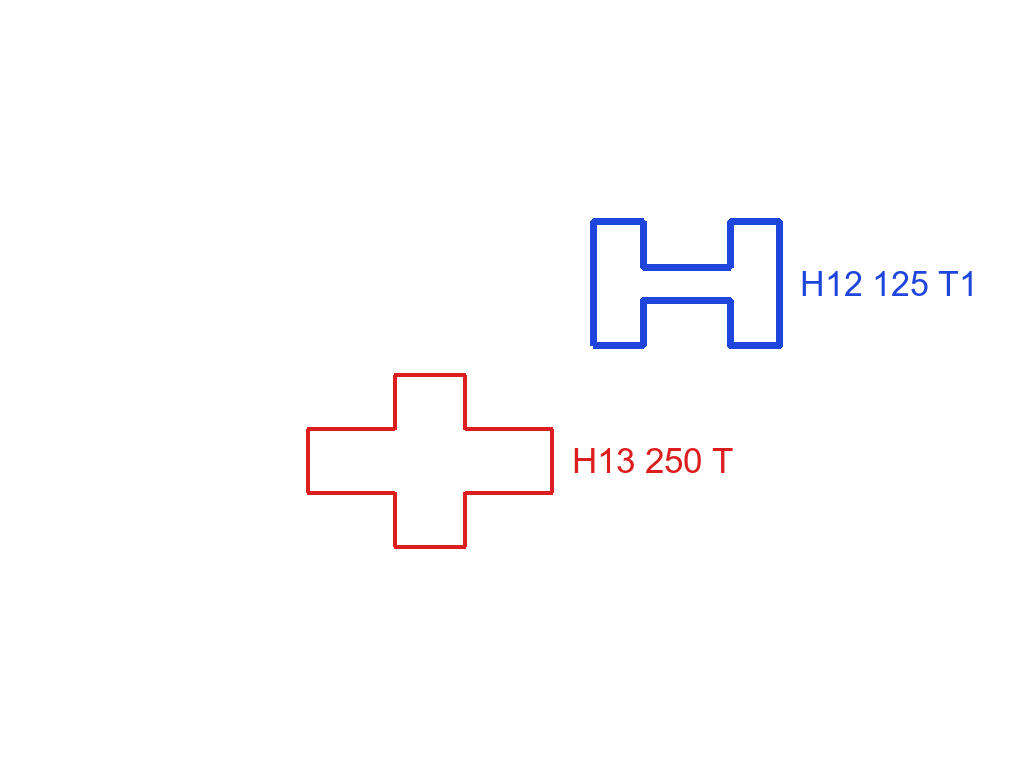shape: (304, 371, 556, 550), (588, 216, 785, 351)
text: (798, 269, 980, 298), (570, 446, 735, 475)
